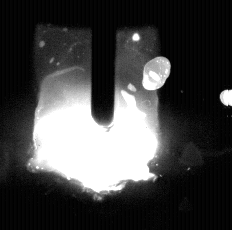arame: (92, 0, 115, 132)
poca: (33, 0, 159, 230)
